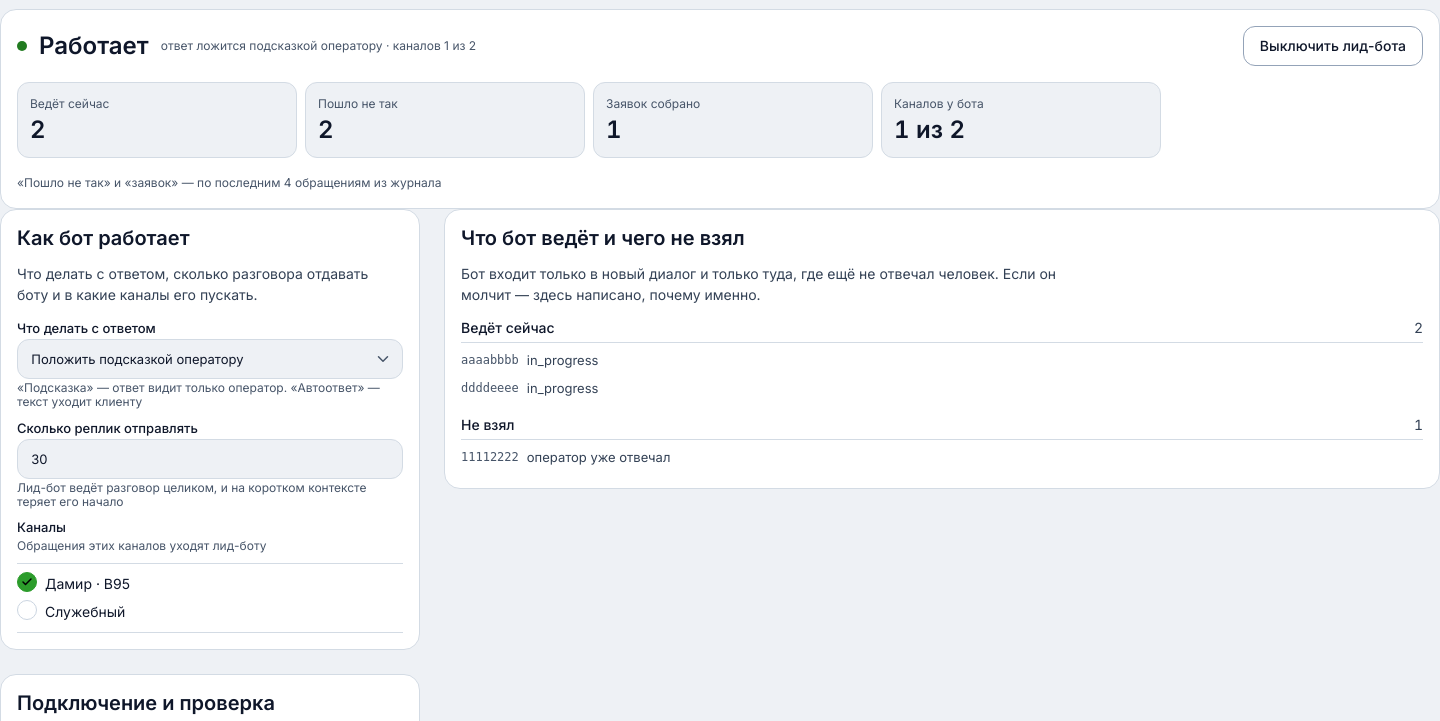
Scenario: Лид-бот: доска состояния вместо стопки блоков › нажатие на плитку беды включает отбор в журнале
Check: the text "Пошло не так" is shown, box x1=318 y1=95 x2=398 y2=113
Click the button "Пошло не так 2" at (358, 104), box x1=305 y1=82 x2=585 y2=158
(page scrolled)
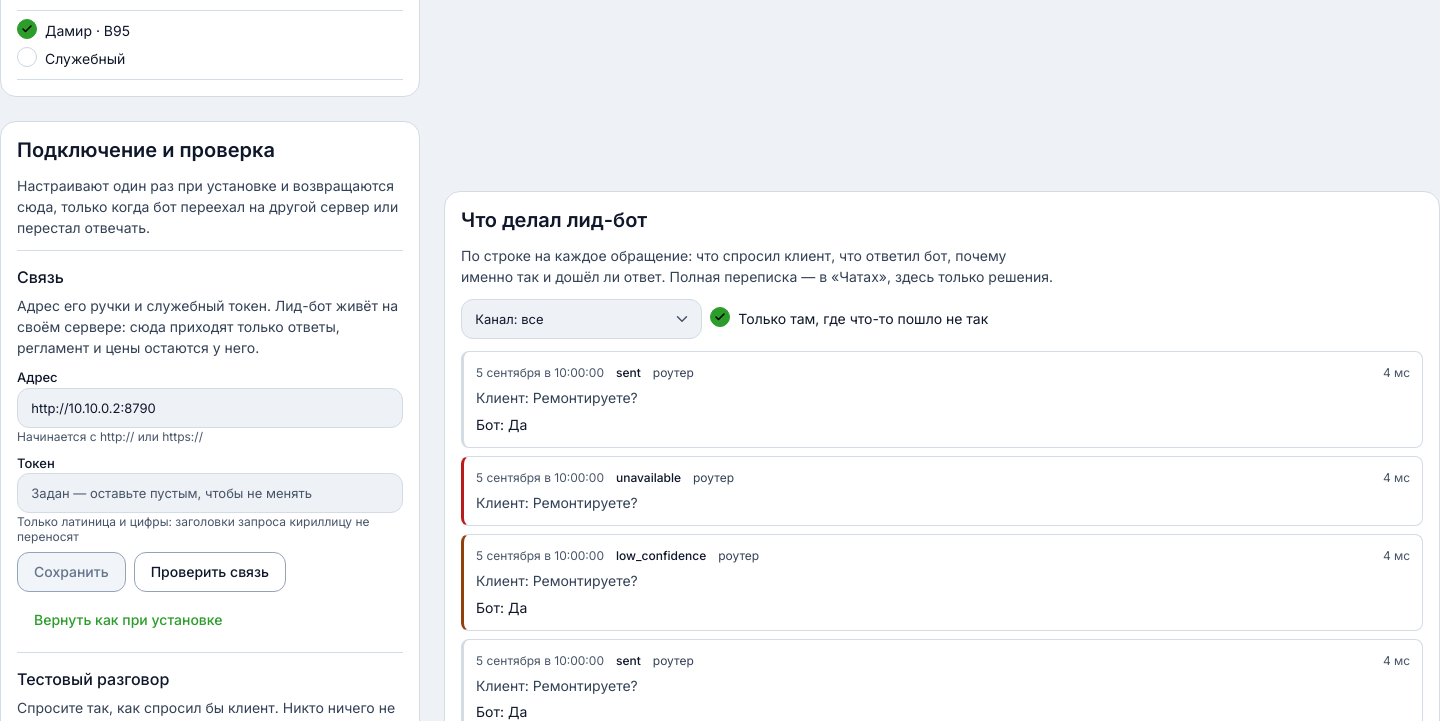
Check: the checkbox labelled "Только там, где что-то пошло не так" is checked, box x1=710 y1=308 x2=730 y2=328
